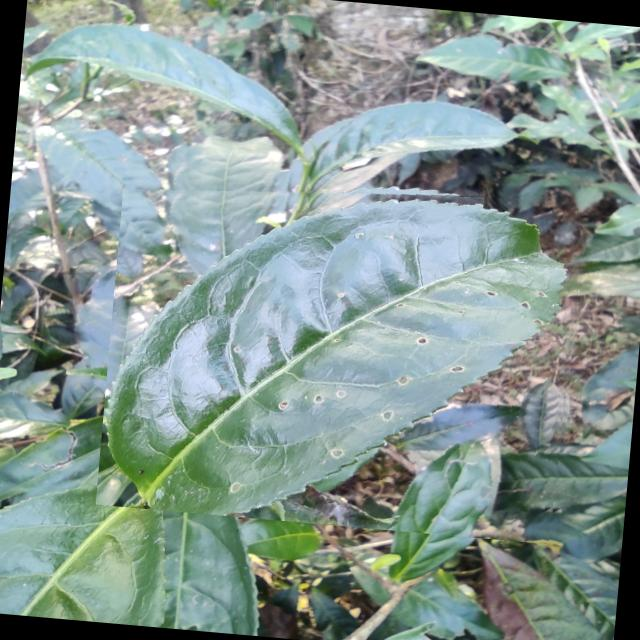Category D(7+ days, Not for Tea): (95, 158, 589, 544)
